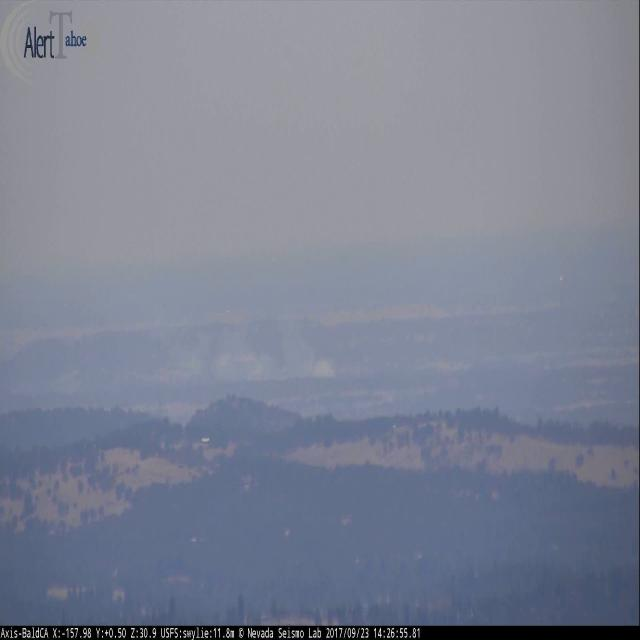smoke: (162, 320, 341, 378)
